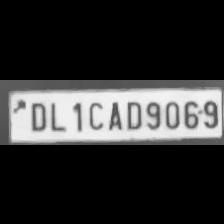0: (162, 97, 180, 128)
1: (66, 98, 84, 132)
6: (181, 97, 199, 128)
9: (200, 97, 220, 128), (143, 97, 161, 129)
A: (104, 97, 122, 130)
C: (85, 97, 105, 130)
D: (26, 98, 48, 132), (122, 97, 142, 129)
L: (46, 97, 66, 131)
